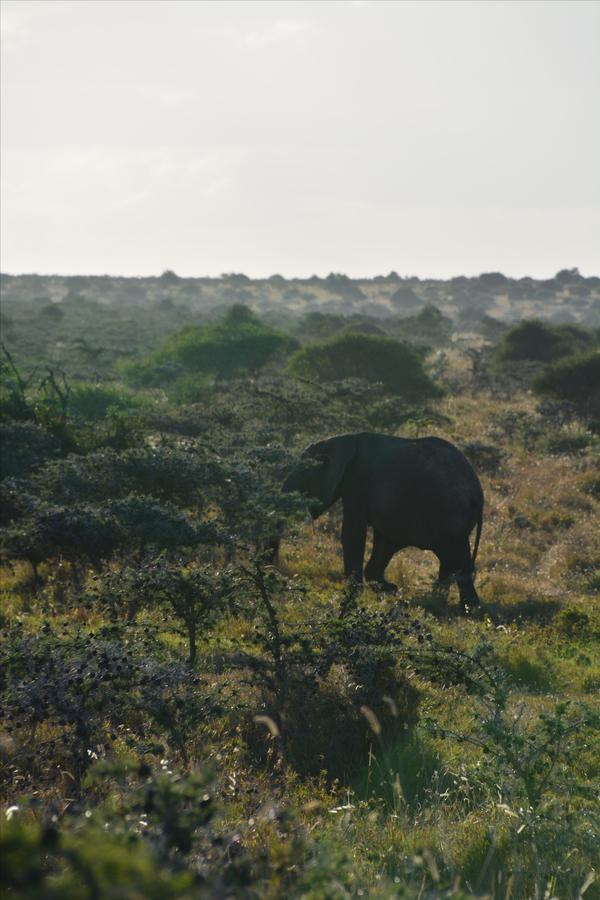elephant: (409, 134, 600, 301)
